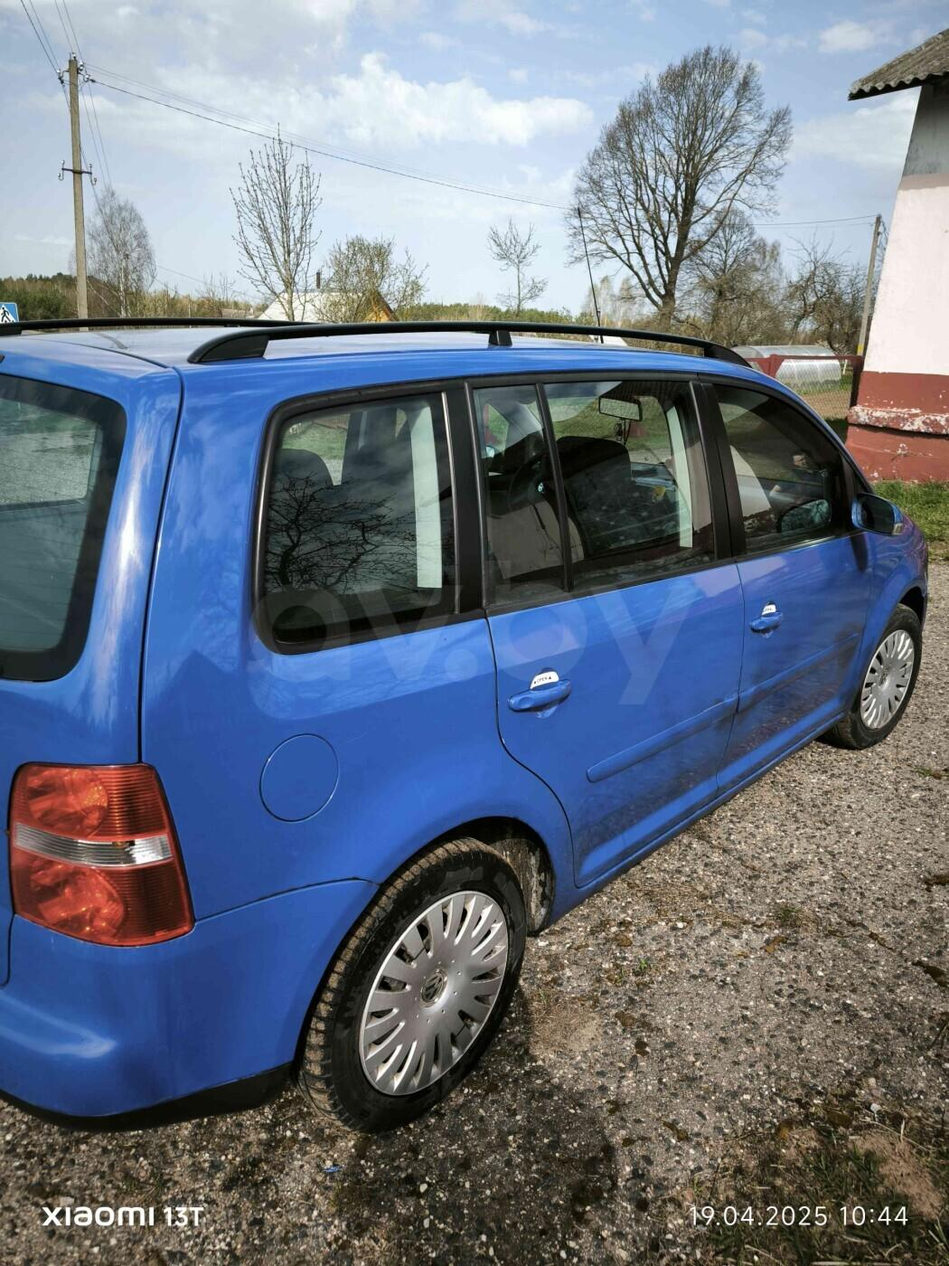Touran_2003-2006: (0, 298, 936, 1129)
